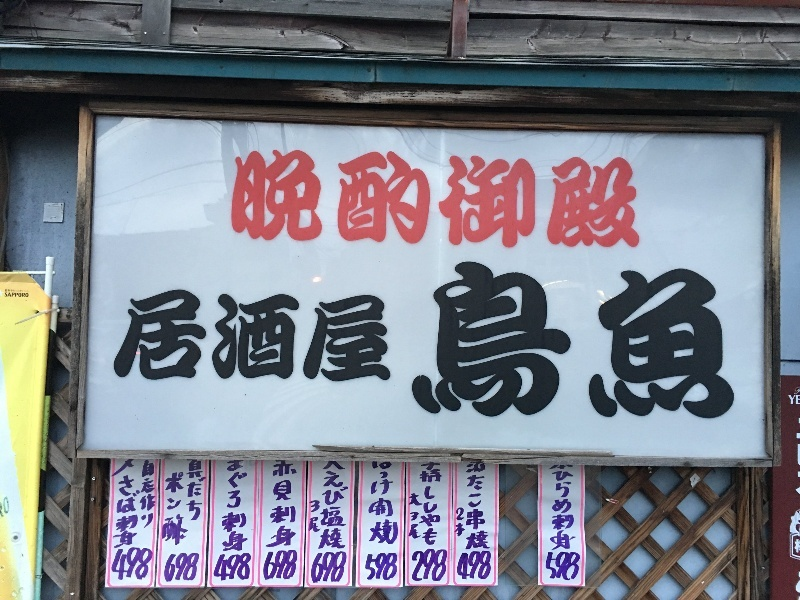text: (788, 385, 800, 590), (433, 260, 448, 421), (449, 260, 464, 421), (465, 260, 480, 421), (481, 260, 496, 421), (497, 260, 512, 421), (513, 260, 528, 421), (529, 260, 544, 421), (545, 260, 560, 421), (561, 260, 576, 421), (577, 260, 592, 421), (593, 260, 608, 421), (609, 260, 624, 421), (625, 260, 640, 421), (641, 260, 656, 421), (657, 260, 672, 421), (673, 260, 688, 421), (689, 260, 704, 421), (705, 260, 720, 421), (721, 260, 736, 421), (420, 260, 432, 421), (241, 149, 256, 251), (257, 149, 272, 251), (273, 149, 288, 251), (289, 149, 304, 251), (305, 149, 320, 251), (321, 149, 336, 251), (337, 149, 352, 251), (353, 149, 368, 251), (369, 149, 384, 251), (385, 149, 400, 251), (401, 149, 416, 251), (417, 149, 432, 251), (433, 149, 448, 251), (449, 149, 464, 251), (465, 149, 480, 251), (481, 149, 496, 251), (497, 149, 512, 251), (513, 149, 528, 251), (529, 149, 544, 251), (545, 149, 560, 251), (561, 149, 576, 251), (577, 149, 592, 251), (593, 149, 608, 251), (609, 149, 624, 251), (625, 149, 640, 251), (129, 289, 144, 389), (145, 289, 160, 389), (161, 289, 176, 389), (177, 289, 192, 389), (193, 289, 208, 389), (209, 289, 224, 389), (225, 289, 240, 389), (241, 289, 256, 389), (257, 289, 272, 389), (273, 289, 288, 389), (289, 289, 304, 389), (305, 289, 320, 389), (321, 289, 336, 389), (337, 289, 352, 389), (353, 289, 368, 389), (369, 289, 384, 389), (321, 462, 336, 552), (273, 462, 288, 549), (561, 465, 576, 552), (466, 463, 480, 551), (227, 461, 240, 553), (370, 462, 384, 547), (385, 462, 399, 547), (115, 459, 128, 549), (419, 463, 432, 548), (129, 459, 141, 549), (548, 465, 560, 552), (241, 461, 252, 553), (337, 462, 348, 552), (289, 462, 300, 549), (433, 463, 444, 548), (165, 472, 176, 549), (177, 472, 188, 549), (193, 459, 206, 524), (385, 289, 393, 389), (481, 463, 490, 551), (145, 459, 155, 530), (433, 550, 449, 584), (417, 550, 432, 584), (737, 260, 740, 421), (113, 550, 128, 582), (129, 550, 144, 582), (321, 552, 336, 584), (177, 553, 192, 583), (465, 552, 480, 582), (545, 552, 560, 582), (561, 552, 576, 582), (225, 555, 240, 584), (273, 552, 288, 581), (369, 555, 384, 583), (236, 149, 240, 251), (124, 289, 128, 389), (385, 555, 399, 583), (186, 459, 192, 524), (310, 500, 320, 538), (337, 552, 348, 584), (241, 555, 253, 584), (481, 552, 492, 582), (289, 552, 299, 581), (145, 550, 154, 582), (455, 507, 464, 539), (167, 553, 176, 583), (215, 555, 224, 584), (411, 494, 416, 542), (417, 494, 422, 542), (456, 552, 464, 582), (313, 552, 320, 584), (641, 149, 643, 251), (265, 552, 272, 581), (193, 553, 199, 583), (142, 459, 144, 530), (412, 550, 416, 584), (577, 552, 581, 582), (577, 465, 578, 552), (366, 555, 368, 583), (321, 500, 322, 538), (465, 507, 466, 539)
